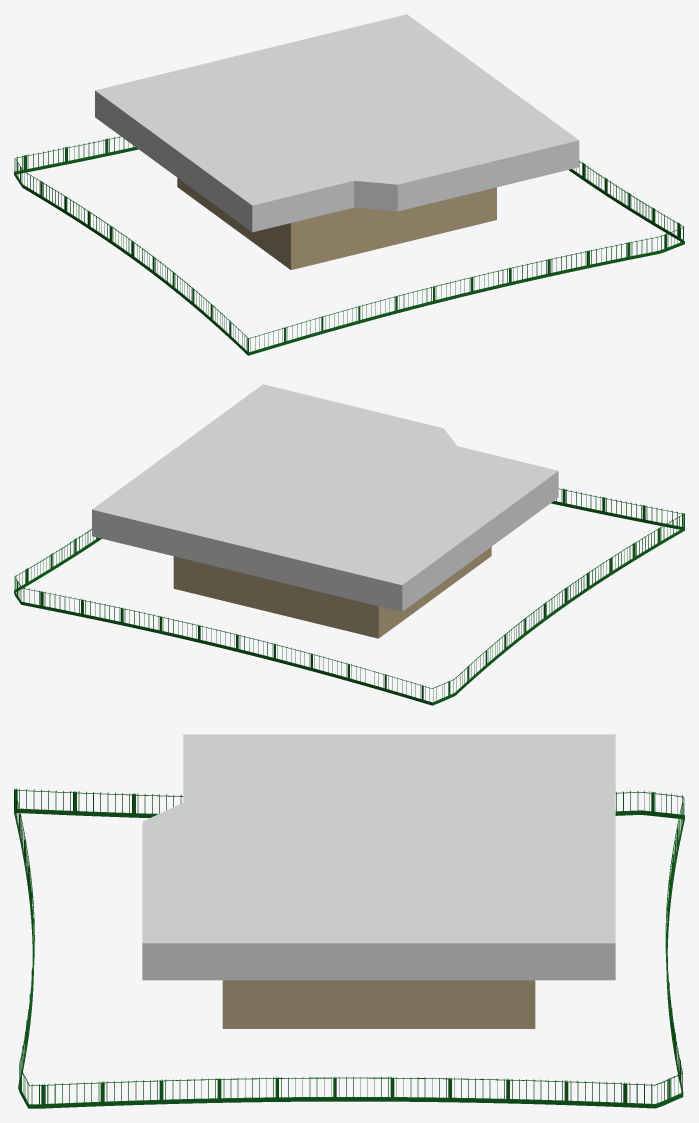
The model's file is davo.fbx.
3 renders of one model, top to bottom at view 1: azimuth 30°, elevation 25°; view 2: azimuth 150°, elevation 25°; view 3: azimuth 270°, elevation 25°, orthographic. The views are drawn at different scales.
Parts seen in each view (by area): view 1: Cube; view 2: Cube; view 3: Cube.
Boxes of the visible parts, x1,y1,x2,y2 form: Cube: [14, 14, 684, 355]; Cube: [14, 384, 684, 705]; Cube: [14, 734, 684, 1108].
Bounding box in the file's own units: 90970 × 17502 × 87015.
